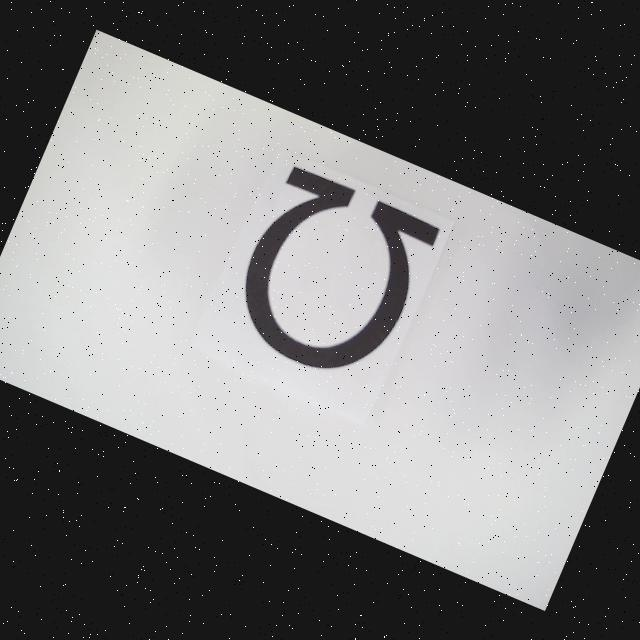OMEGA: (221, 163, 440, 392)
